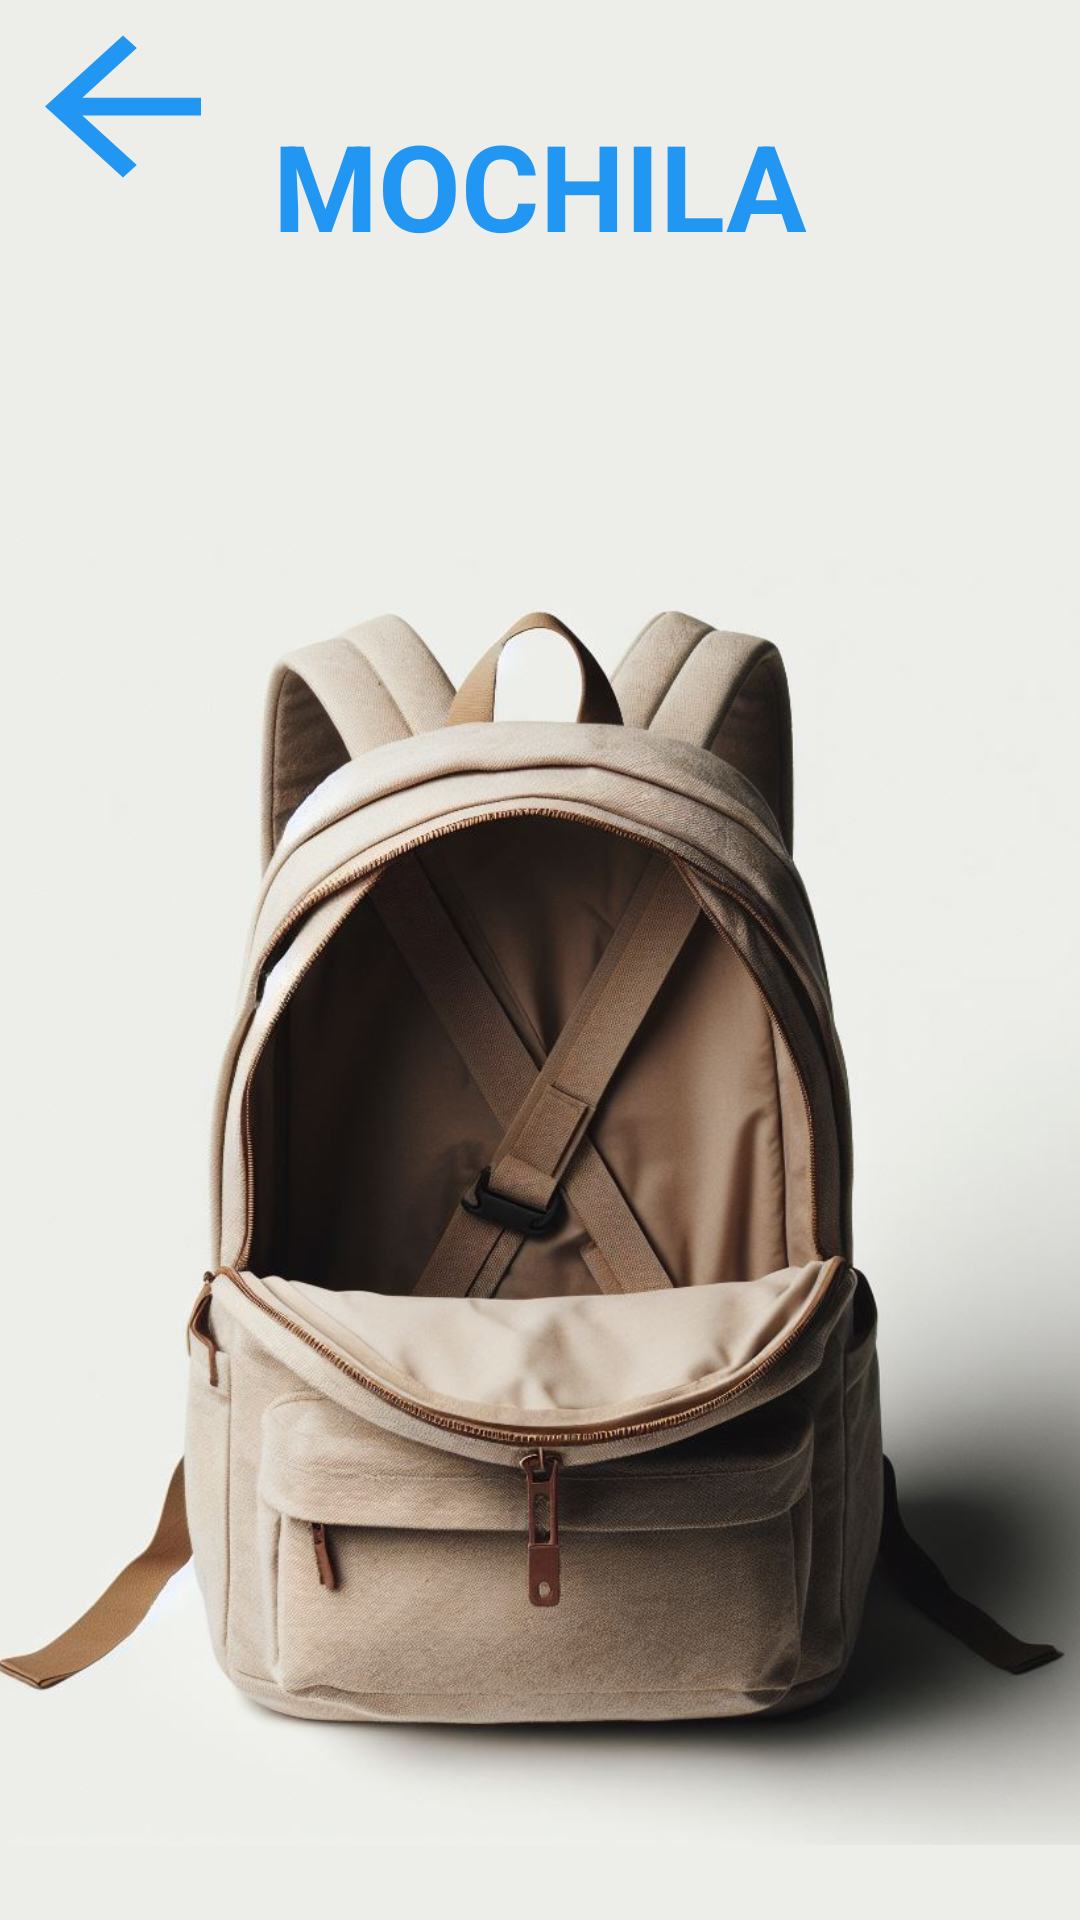

Screen size 1080px x 1920px. Icon name, then its box in pixels as (x1, y1, x2, y2):
arrow: (45, 35, 201, 178)
